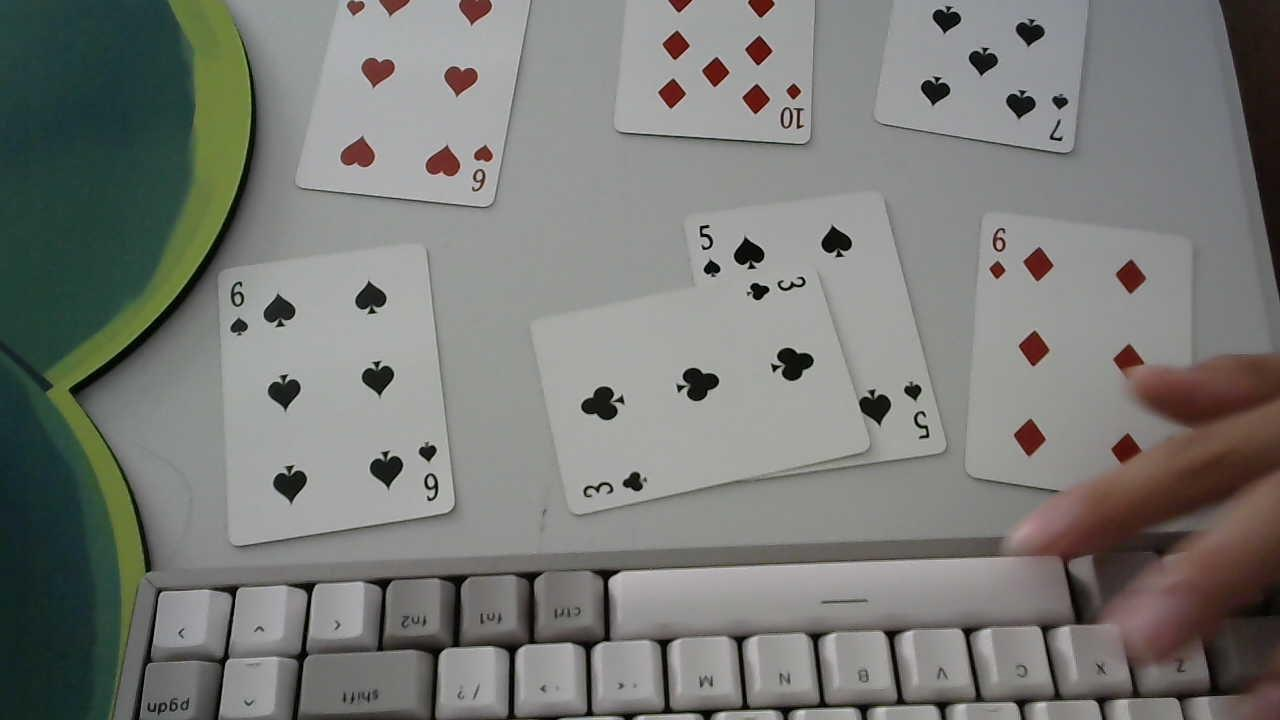10D: (775, 75, 812, 138)
3C: (576, 467, 655, 503), (742, 268, 810, 305)
5S: (897, 378, 940, 450), (693, 219, 728, 281)
6D: (985, 215, 1012, 286)
6H: (465, 129, 506, 201)
6S: (411, 436, 447, 509), (220, 275, 253, 341)
7S: (1040, 87, 1076, 148)
